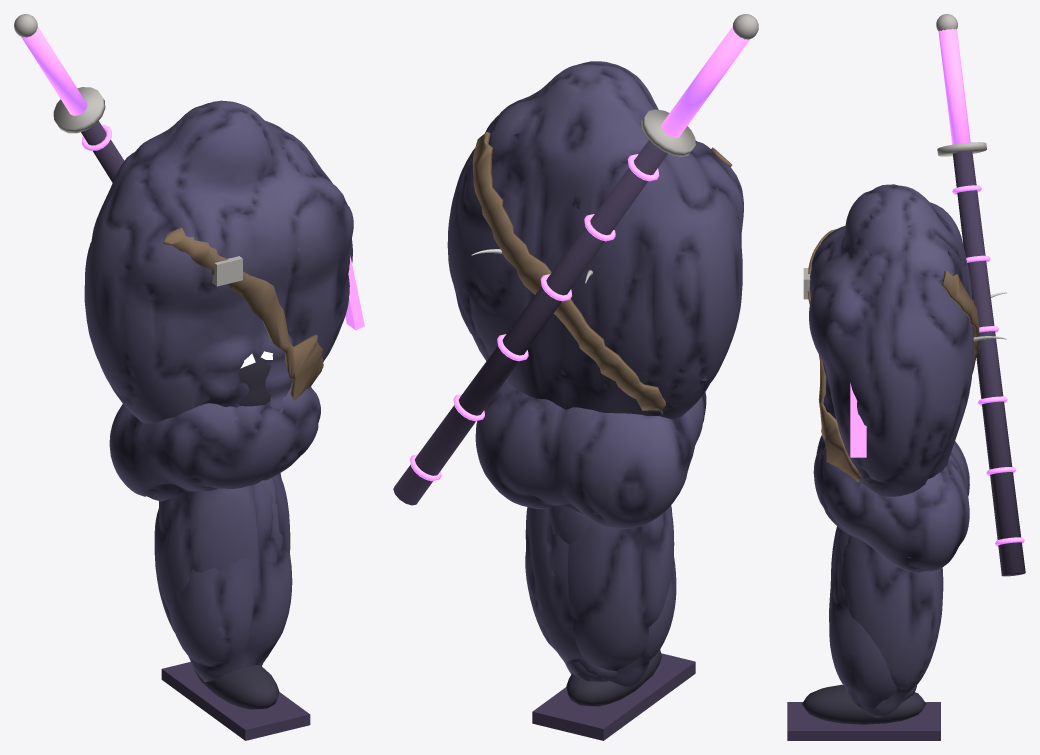
File: hero.glb
The picture shows the model from 3 angles, left to right: view 1: azimuth 30°, elevation 25°; view 2: azimuth 150°, elevation 25°; view 3: azimuth 270°, elevation 25°; orthographic projection. The views are drawn at different scales.
Visible parts, largest first — view 1: torso, hips, thigh_R, thigh_L, strap_front, sole_L, boot_L, tsuka, tsuba, faceplate, scabbard, buckle (+1 smaller); view 2: torso, hips, thigh_R, scabbard, thigh_L, strap_back, sole_L, tsuka, boot_L, shin_R, tsuba; view 3: torso, hips, thigh_L, scabbard, thigh_R, sole_L, boot_L, tsuka, strap_front, strap_back, accent, tsuba.
Boxes of the visible parts, x1=… form: torso: x1=84, y1=100, x2=353, y2=423; hips: x1=109, y1=386, x2=320, y2=501; thigh_R: x1=154, y1=478, x2=292, y2=667; thigh_L: x1=169, y1=473, x2=290, y2=681; strap_front: x1=163, y1=227, x2=323, y2=400; sole_L: x1=161, y1=662, x2=310, y2=740; boot_L: x1=193, y1=665, x2=279, y2=709; tsuka: x1=21, y1=26, x2=87, y2=115; tsuba: x1=53, y1=87, x2=105, y2=133; faceplate: x1=238, y1=356, x2=270, y2=406; scabbard: x1=81, y1=121, x2=124, y2=182; buckle: x1=212, y1=256, x2=242, y2=286; torso: x1=447, y1=61, x2=743, y2=419; hips: x1=475, y1=380, x2=706, y2=529; thigh_R: x1=567, y1=505, x2=674, y2=682; scabbard: x1=393, y1=140, x2=667, y2=505; thigh_L: x1=525, y1=507, x2=676, y2=687; strap_back: x1=472, y1=131, x2=665, y2=414; sole_L: x1=532, y1=653, x2=695, y2=740; tsuka: x1=661, y1=26, x2=750, y2=138; boot_L: x1=566, y1=649, x2=661, y2=706; shin_R: x1=548, y1=505, x2=617, y2=681; tsuba: x1=641, y1=109, x2=695, y2=156; torso: x1=809, y1=184, x2=973, y2=496; hips: x1=813, y1=435, x2=969, y2=572; thigh_L: x1=829, y1=528, x2=943, y2=717; scabbard: x1=953, y1=151, x2=1025, y2=576; thigh_R: x1=829, y1=526, x2=943, y2=710; sole_L: x1=787, y1=702, x2=940, y2=740; boot_L: x1=802, y1=684, x2=925, y2=724; tsuka: x1=938, y1=28, x2=970, y2=144; strap_front: x1=807, y1=229, x2=861, y2=481; strap_back: x1=941, y1=270, x2=979, y2=373; accent: x1=850, y1=383, x2=866, y2=457; tsuba: x1=937, y1=142, x2=986, y2=156.
Bounding box in the file's own units: 0.5793 × 1.28 × 0.4345.
